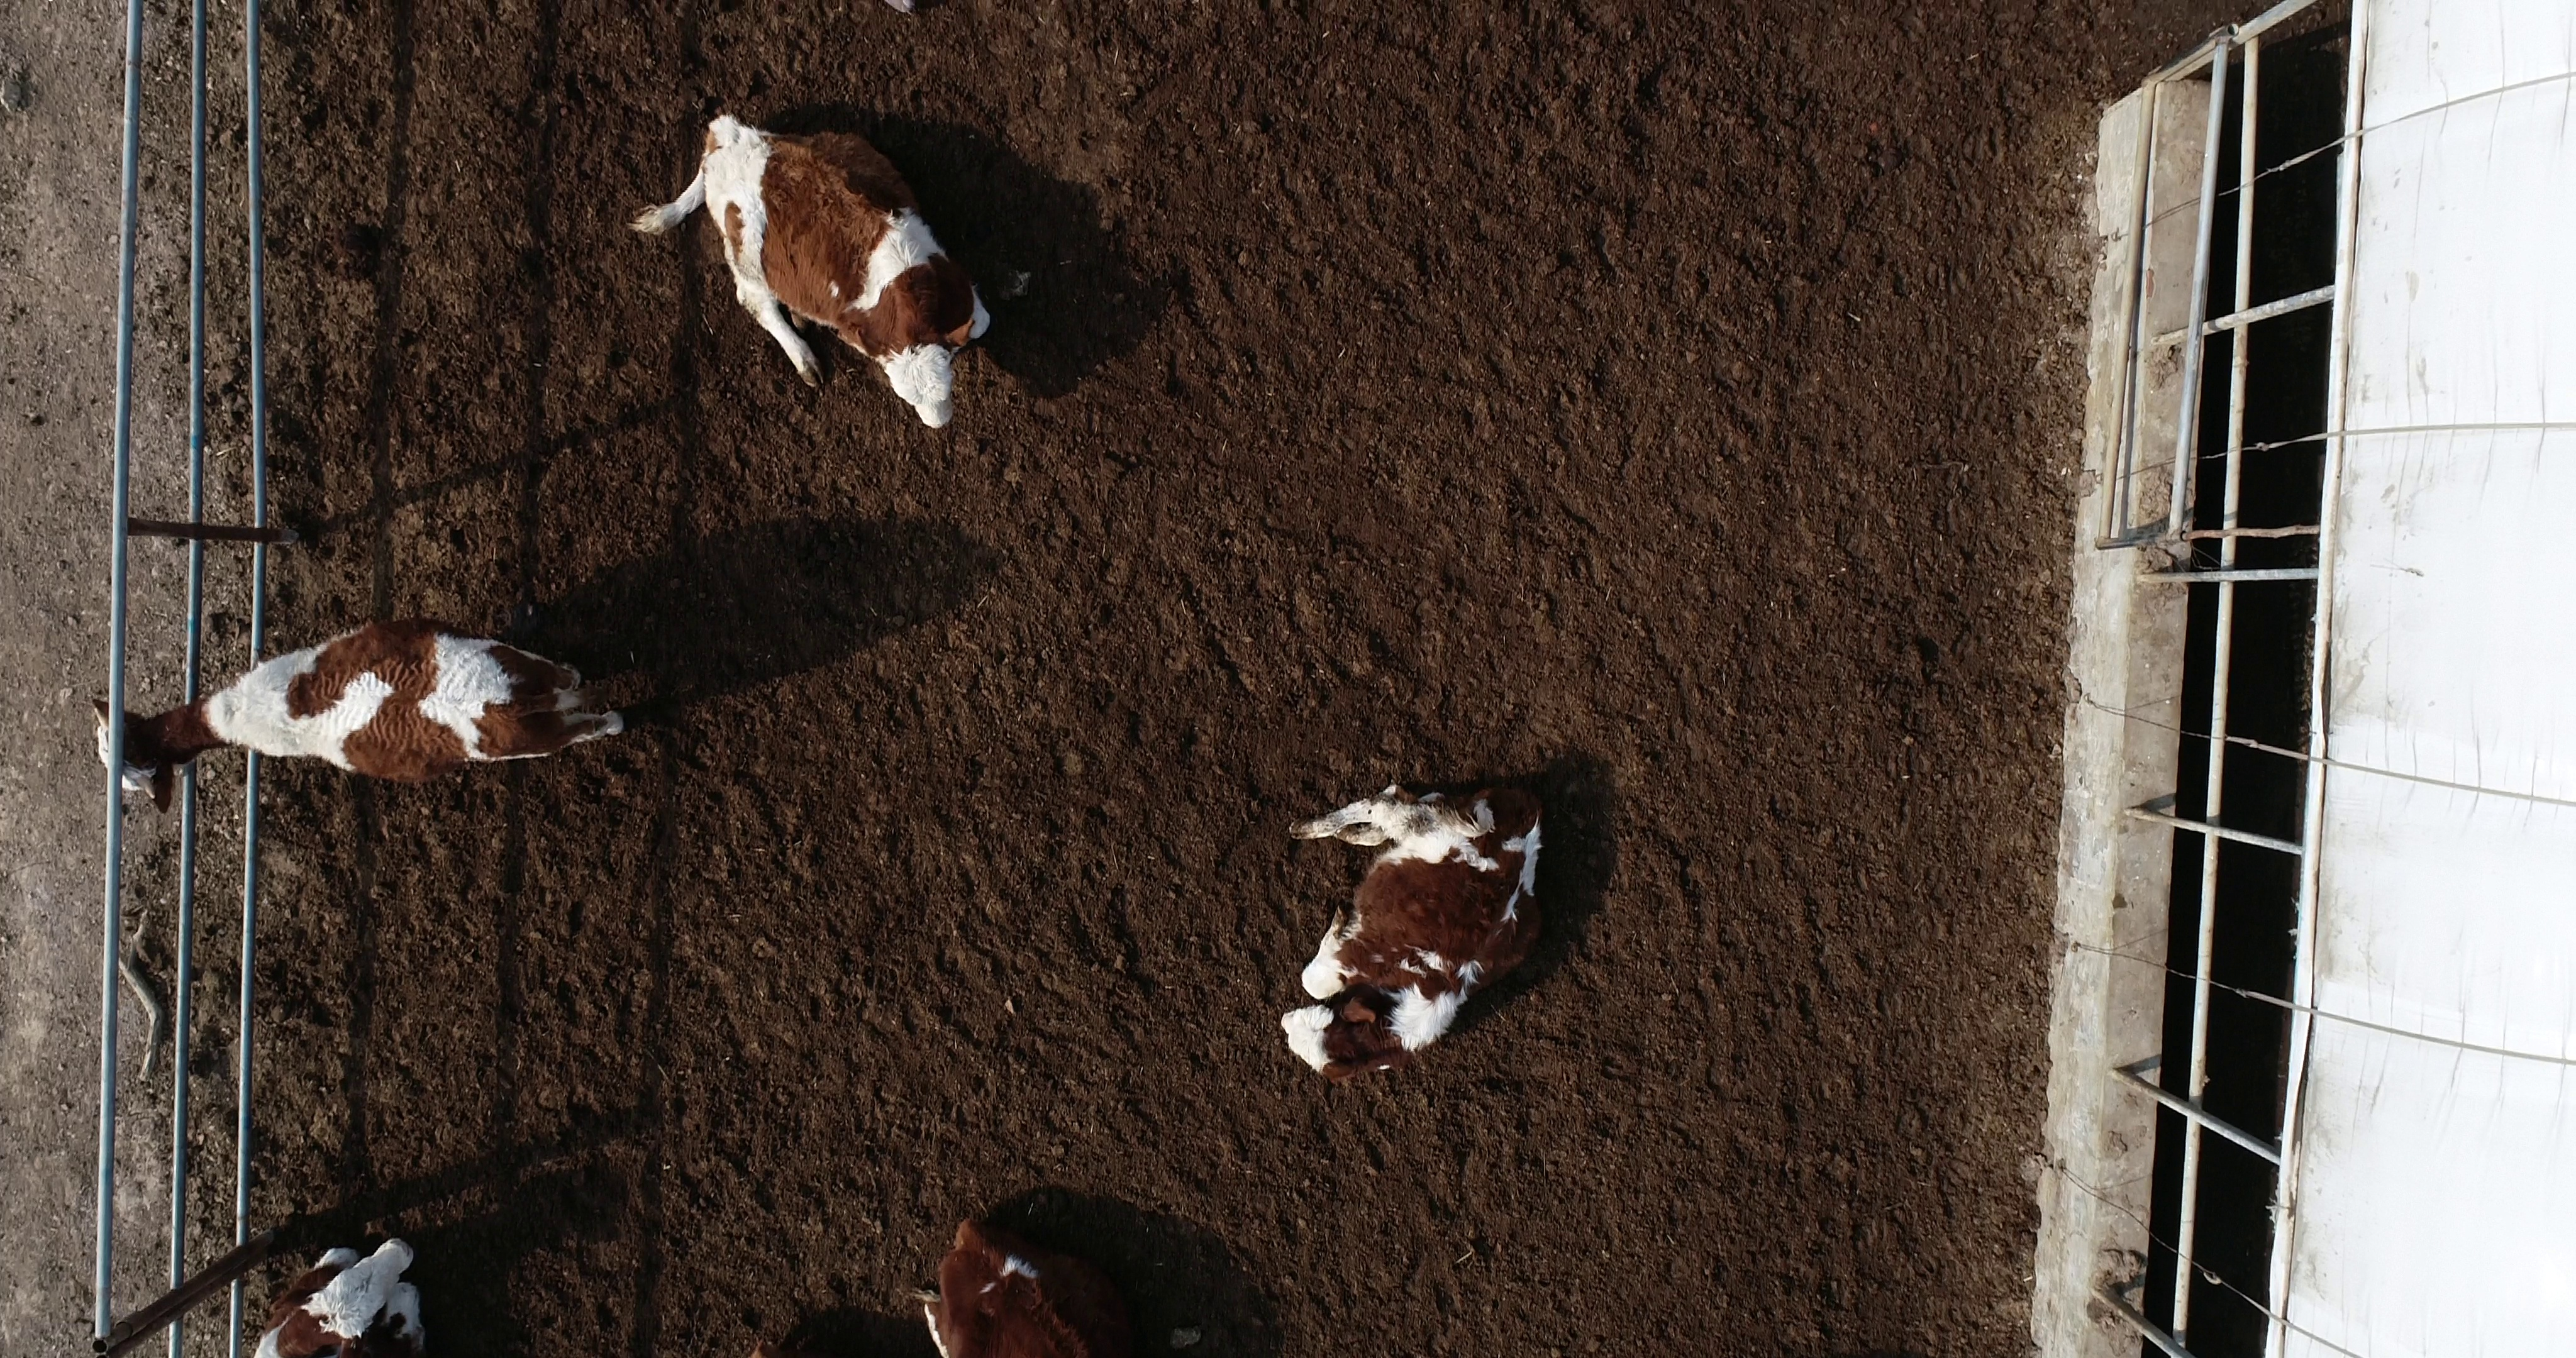cattle: (624, 102, 997, 436), (83, 613, 634, 814), (1268, 777, 1555, 1082)
